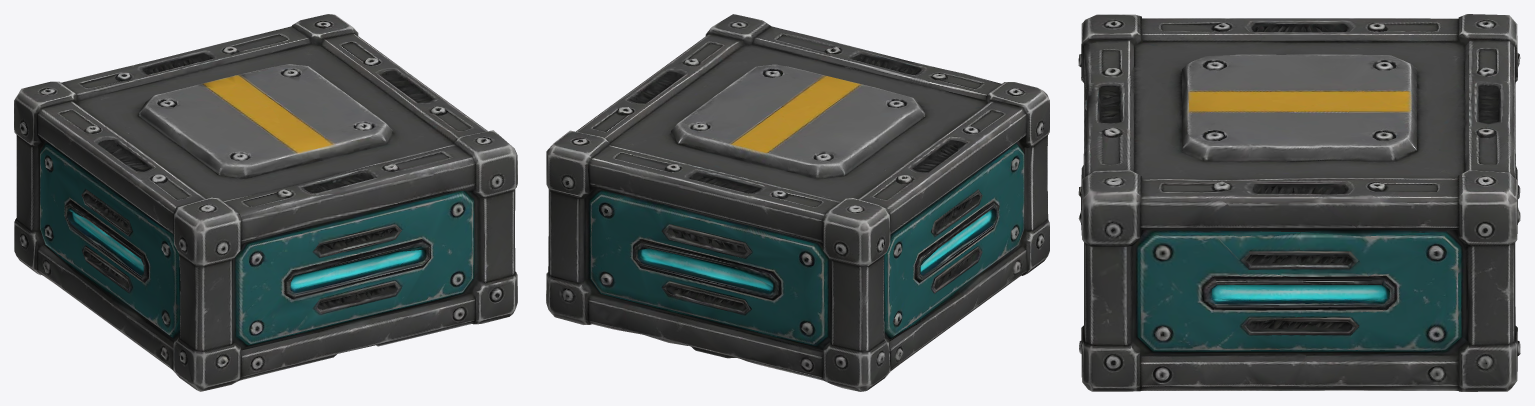
Rendered from crate.glb.
The picture shows the model from 3 angles, left to right: view 1: azimuth 30°, elevation 25°; view 2: azimuth 150°, elevation 25°; view 3: azimuth 270°, elevation 25°; orthographic projection. The views are drawn at different scales.
Parts seen in each view (by area): view 1: tripo_node_c4cd57a4-3bec-4585-8a1c-b865e4969c1a; view 2: tripo_node_c4cd57a4-3bec-4585-8a1c-b865e4969c1a; view 3: tripo_node_c4cd57a4-3bec-4585-8a1c-b865e4969c1a.
Part boxes in pixels (box(x1,y1,x2,y2)): tripo_node_c4cd57a4-3bec-4585-8a1c-b865e4969c1a: box(14, 14, 517, 391); tripo_node_c4cd57a4-3bec-4585-8a1c-b865e4969c1a: box(546, 14, 1049, 391); tripo_node_c4cd57a4-3bec-4585-8a1c-b865e4969c1a: box(1078, 14, 1520, 391).
Size of the model in its own units: 0.98 by 0.5061 by 0.9795.
Materials: 1 (1 with a texture image).
